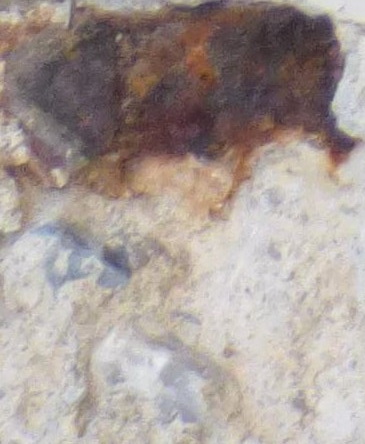Corrosion: (1, 1, 365, 223)
